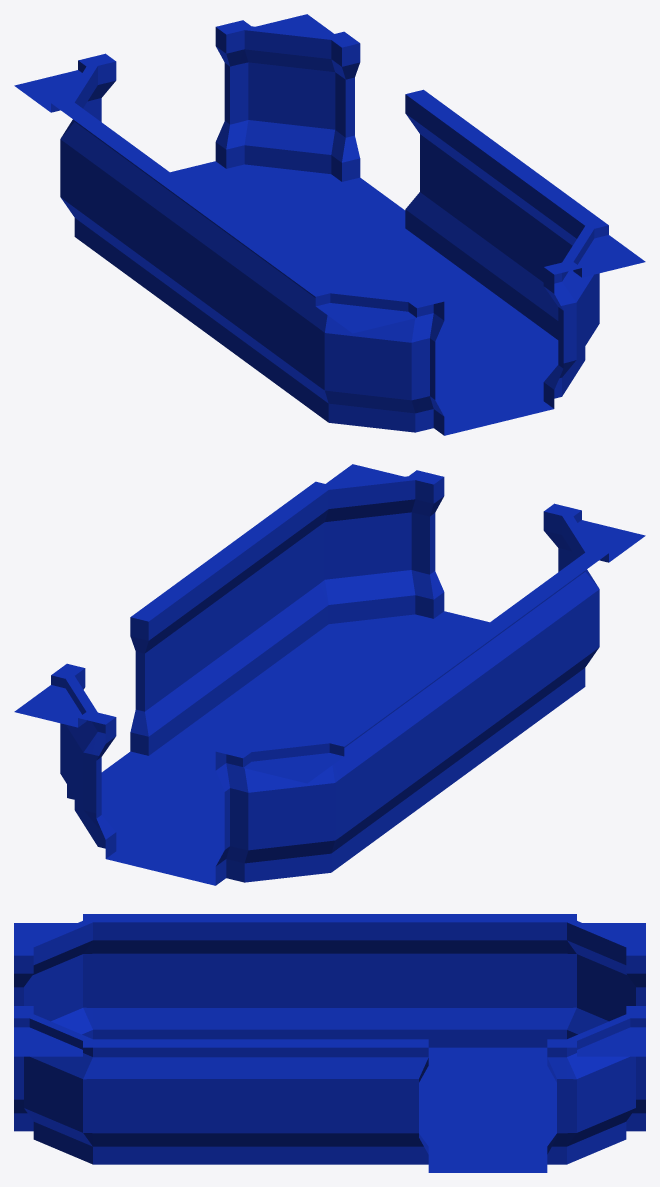
Rendered from 2x1_TJunction01.FBX.
The picture shows the model from 3 angles, top to bottom: view 1: azimuth 30°, elevation 25°; view 2: azimuth 150°, elevation 25°; view 3: azimuth 270°, elevation 25°; orthographic projection. The views are drawn at different scales.
Visible parts, largest first — view 1: 2x1_TJunction1; view 2: 2x1_TJunction1; view 3: 2x1_TJunction1.
Boxes of the visible parts, x1,y1,x2,y2 form: 2x1_TJunction1: (14, 14, 645, 435); 2x1_TJunction1: (14, 464, 645, 885); 2x1_TJunction1: (14, 914, 645, 1172).
Size of what is drawn, in the model's own units: 800 by 350 by 1600.
